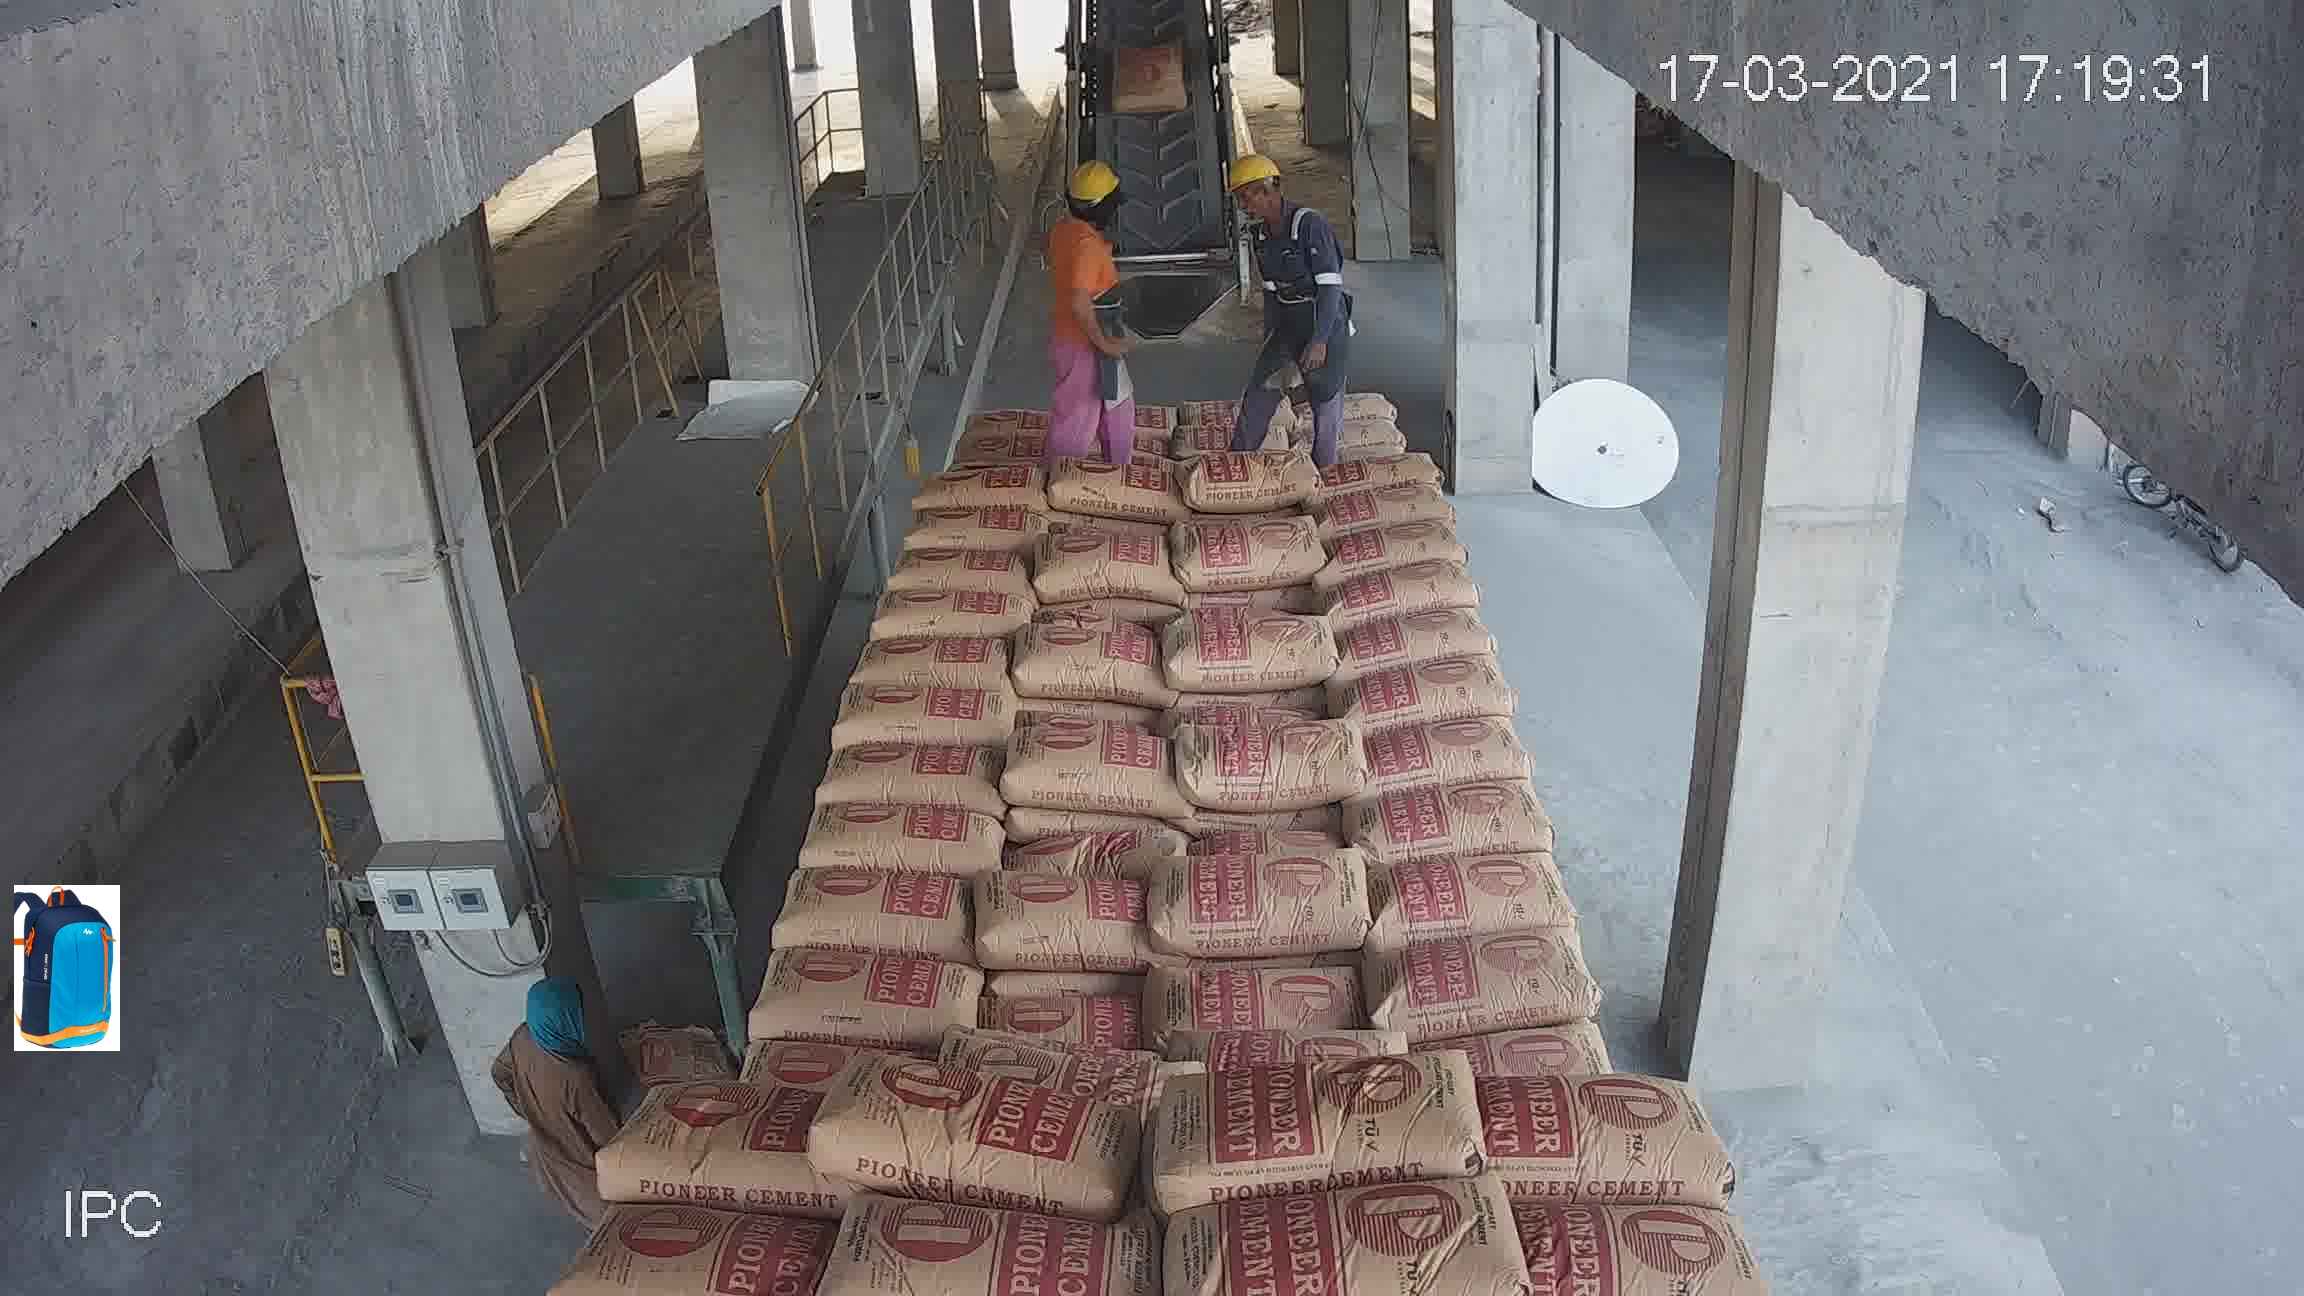bag: (1112, 40, 1193, 116)
bag_h: (1124, 1029, 1473, 1192), (809, 1033, 1144, 1201), (1155, 1150, 1524, 1280), (788, 1209, 1171, 1290), (1348, 919, 1600, 1036), (1449, 1065, 1725, 1169), (1146, 836, 1370, 949), (1508, 1190, 1756, 1287), (597, 1079, 801, 1195), (734, 953, 999, 1041), (552, 1201, 831, 1283), (1157, 703, 1367, 805), (1324, 767, 1567, 851), (766, 859, 978, 954), (1324, 699, 1522, 790), (965, 870, 1150, 965), (810, 729, 1027, 810), (1385, 842, 1575, 934), (1173, 600, 1340, 695), (828, 665, 1021, 747), (1347, 646, 1525, 734), (954, 1025, 1211, 1086), (1165, 1014, 1415, 1074), (1127, 965, 1367, 1024), (1006, 725, 1174, 809), (1005, 623, 1184, 701), (786, 813, 1014, 873), (1169, 508, 1324, 592), (1329, 552, 1483, 628), (1021, 536, 1171, 614), (1449, 1010, 1627, 1073), (1336, 600, 1487, 673), (1003, 812, 1203, 867), (864, 574, 1041, 635), (847, 617, 1014, 680), (897, 492, 1059, 557), (986, 972, 1143, 1038), (1030, 451, 1179, 517), (1180, 449, 1323, 514), (1317, 441, 1442, 510), (905, 459, 1044, 519), (1331, 514, 1470, 571), (883, 541, 1029, 593), (1320, 492, 1446, 533), (940, 418, 1046, 457), (964, 399, 1060, 432)
belt: (1068, 9, 1249, 282)
